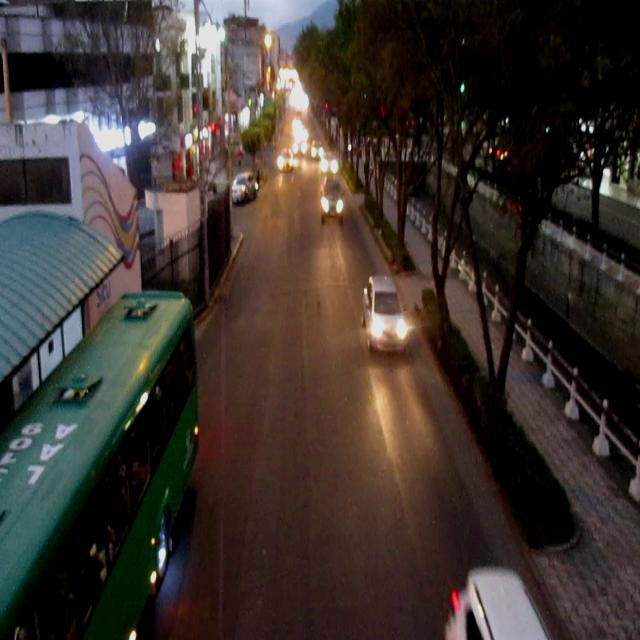BUS: (4, 289, 204, 636)
SUV: (234, 174, 258, 203)
